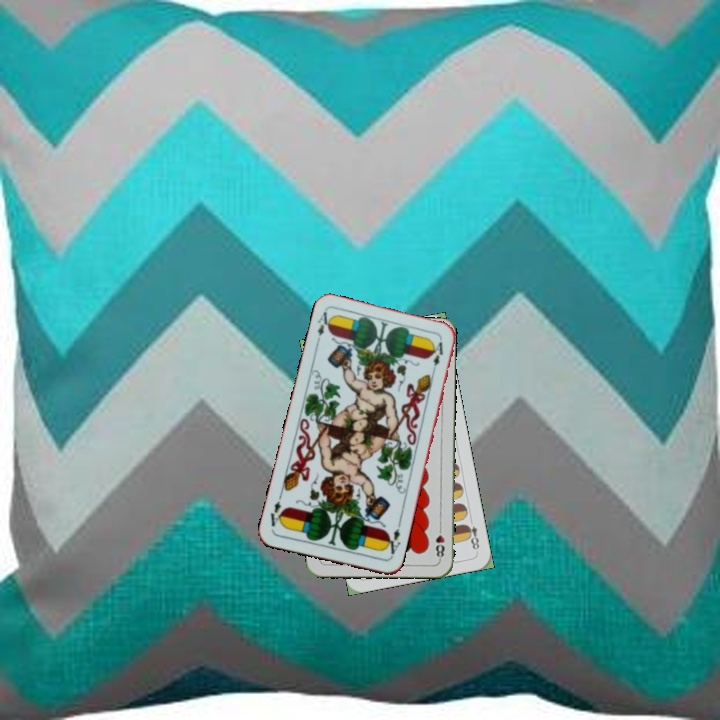E8: (461, 514, 482, 554)
EA: (312, 307, 335, 347), (381, 520, 403, 560)
H8: (432, 521, 447, 562)
